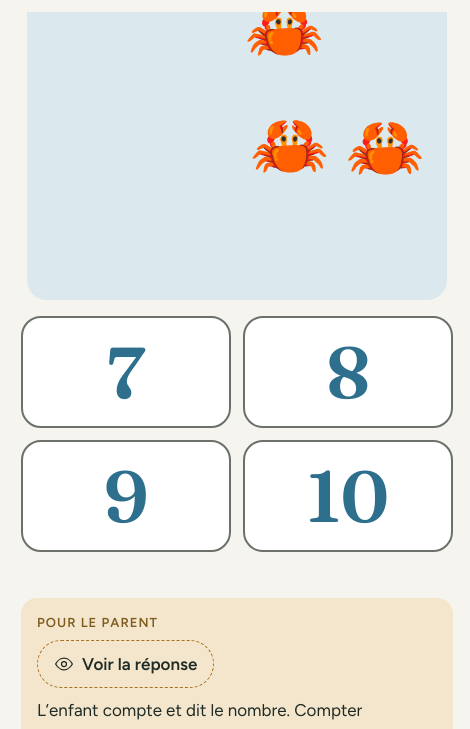
Test: Compte avec moi › en montrant, l’enfant touche la bonne réponse parmi les choix
The width and height of the screenshot is (470, 729).
(page scrolled)
What coordinates should you click on to do the following:
click the button "7"
I would click on:
 (126, 372)
Its box is [21,316,231,428].
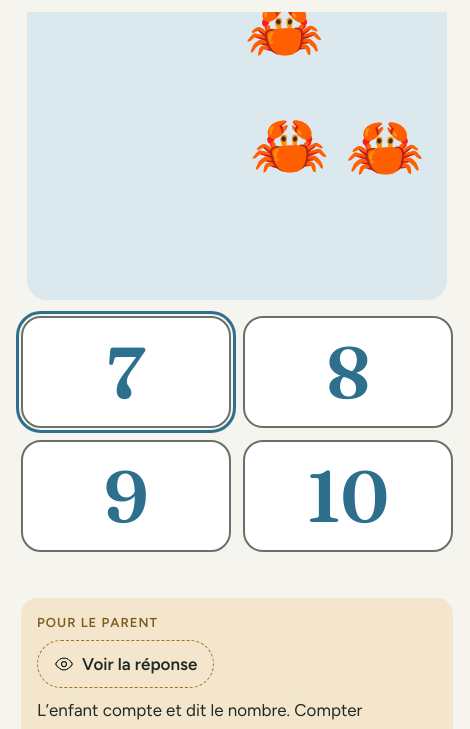
What coordinates should you click on to do the following:
click the button "8"
I would click on:
 (348, 372)
Its box is [243,316,453,428].
(page scrolled)
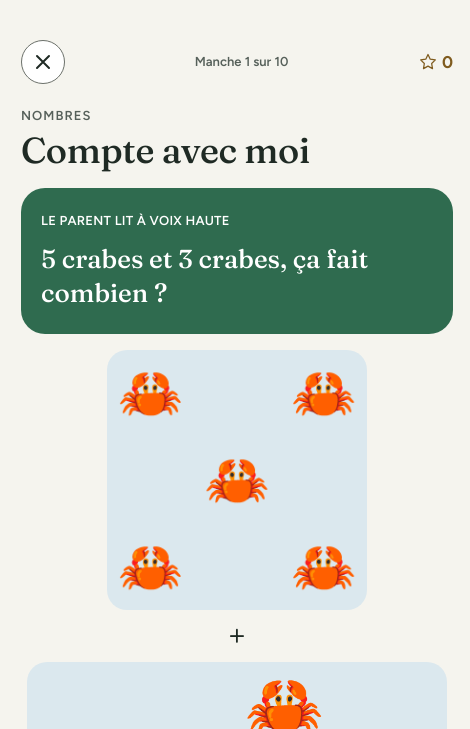
Now the text "Manche 1 sur 10" is shown, box [195,53,288,71]
